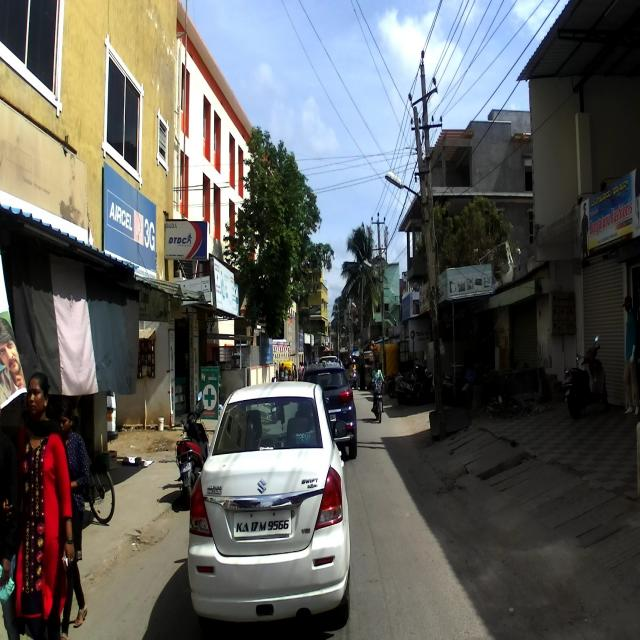Car_Maruti-Suzuki: (187, 380, 351, 632)
scooter: (174, 390, 210, 505), (561, 336, 609, 420)
